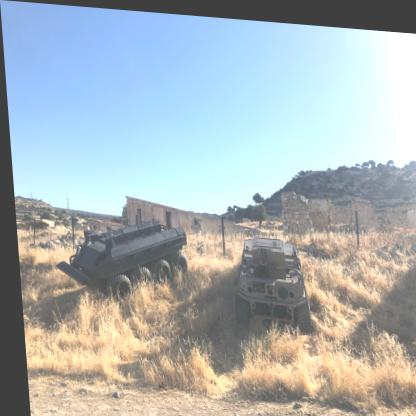UGV: (48, 210, 188, 303), (227, 230, 308, 330)
